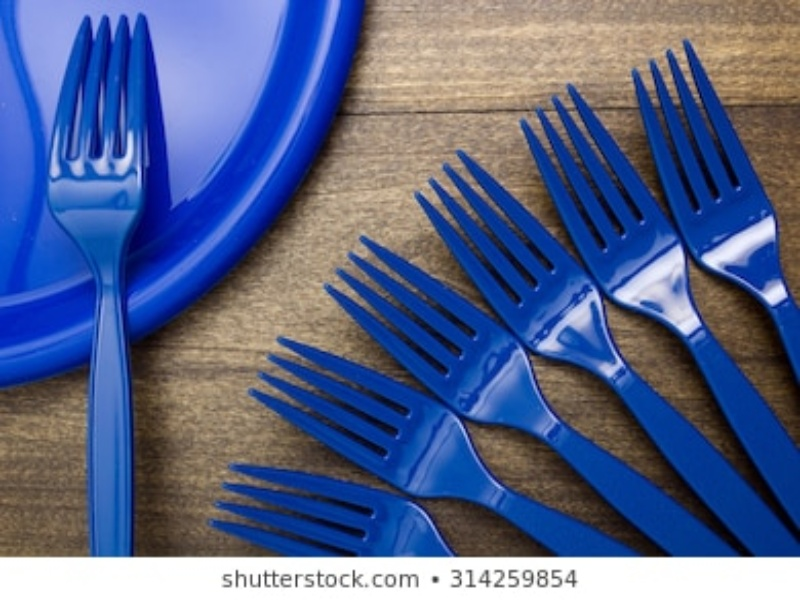plastic-plate: (1, 2, 370, 387)
plastic-silverware: (411, 146, 800, 557), (327, 234, 741, 558), (516, 82, 800, 529), (245, 333, 652, 557), (44, 9, 156, 556), (628, 36, 800, 382), (202, 460, 472, 558)
